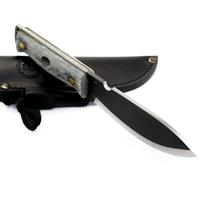knife: (13, 21, 196, 160)
